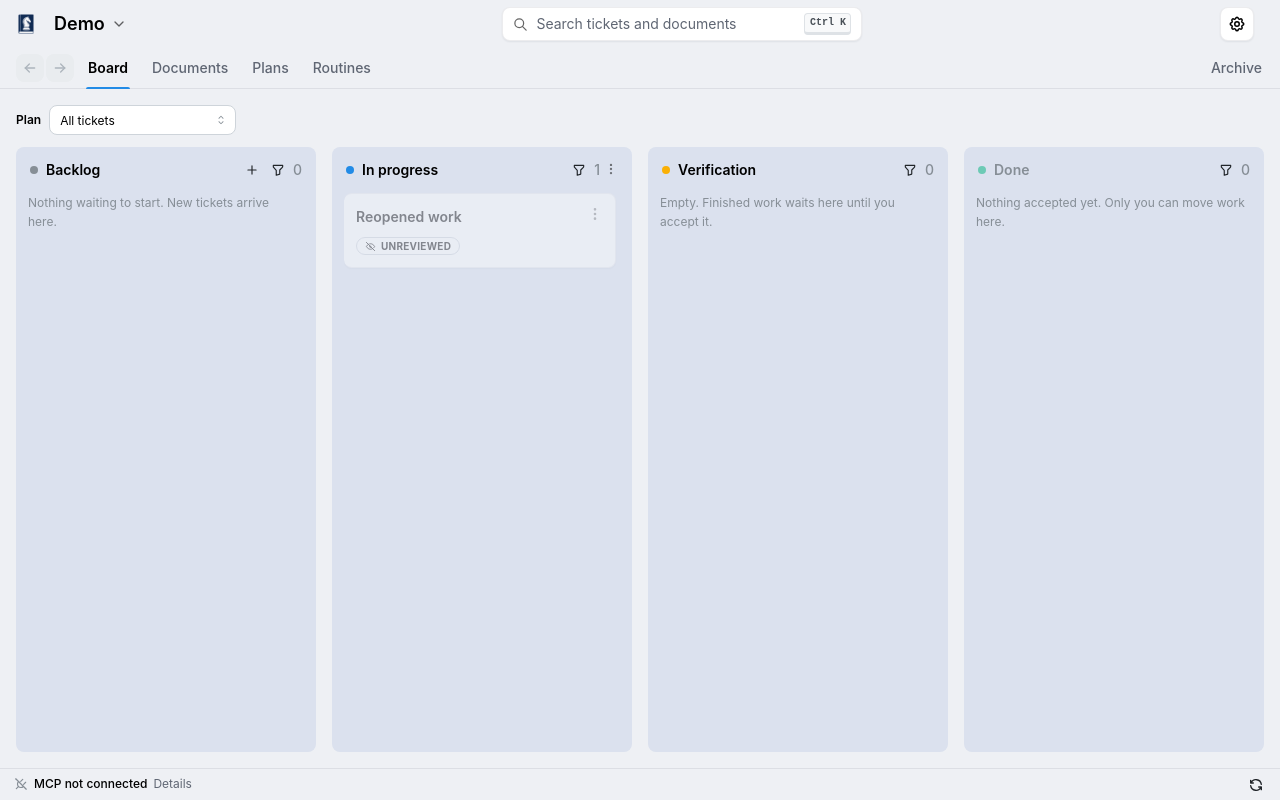
Test: a ticket that is not Done › shows nothing about reopening when it was never accepted
Click the text "Reopened work" at (409, 216), box top-left (356, 208), bottom-right (462, 225)
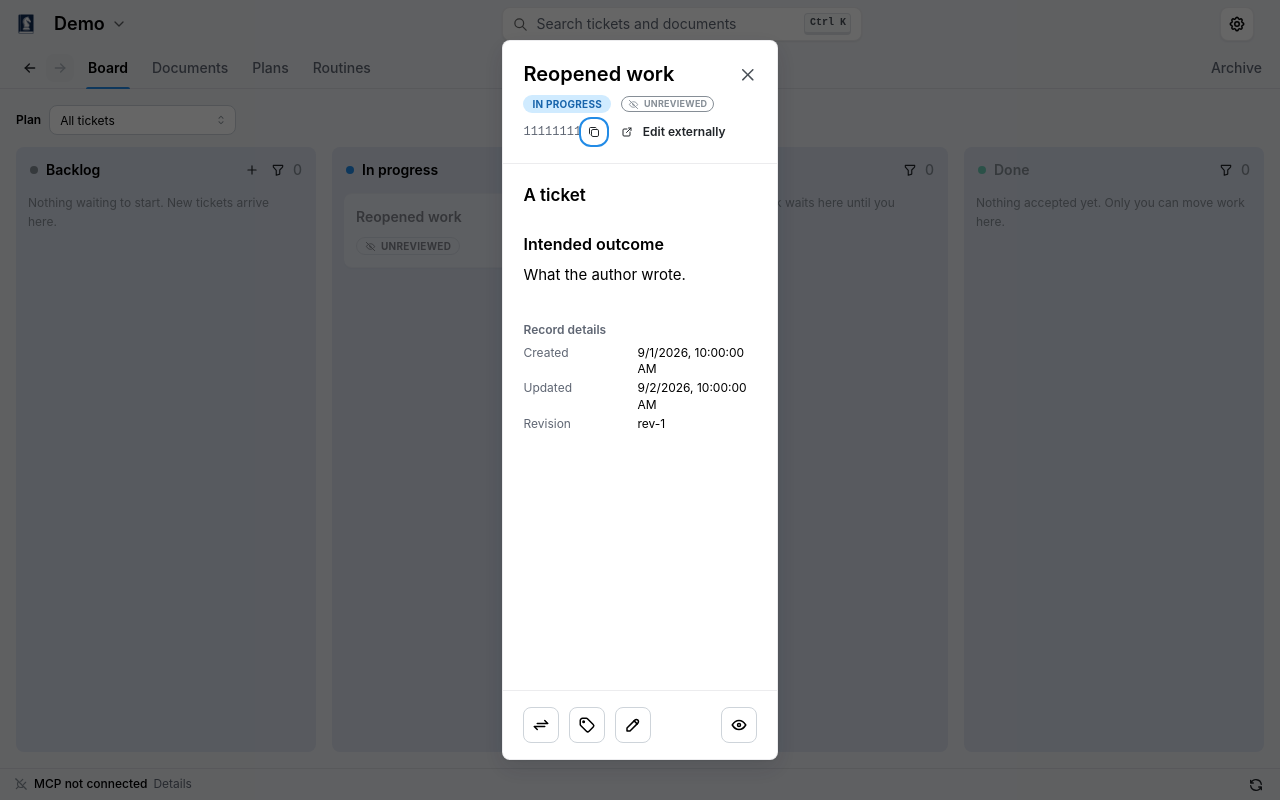
Expected: the text "What the author wrote." is shown, top-left (524, 265), bottom-right (686, 284)
